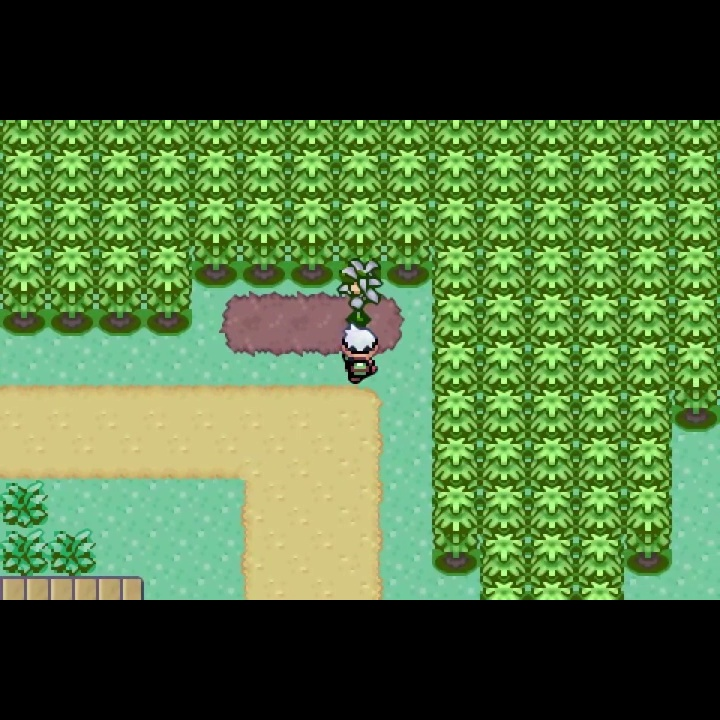grass: (47, 527, 97, 578), (1, 477, 49, 529), (1, 527, 48, 578)
npc: (338, 321, 380, 387)
wall: (288, 195, 335, 293), (671, 340, 720, 434), (241, 196, 288, 292), (96, 243, 143, 338), (384, 195, 431, 290), (144, 244, 192, 337), (193, 196, 240, 290), (625, 484, 673, 576), (432, 485, 480, 576), (1, 244, 48, 335), (49, 243, 94, 337), (336, 196, 382, 265), (430, 387, 480, 438), (574, 435, 625, 485), (528, 339, 576, 391), (47, 148, 96, 198), (480, 293, 529, 343), (526, 196, 576, 245), (432, 243, 480, 294), (481, 244, 528, 296), (528, 435, 575, 487), (431, 293, 480, 342), (527, 149, 576, 198), (671, 292, 720, 341), (240, 146, 288, 196), (289, 148, 337, 198), (478, 532, 528, 580), (576, 485, 624, 535), (575, 244, 625, 292), (623, 196, 671, 246), (48, 196, 96, 245), (97, 195, 145, 244), (192, 148, 241, 196), (432, 342, 481, 390), (528, 485, 576, 534), (624, 148, 672, 197), (528, 532, 575, 582), (673, 149, 720, 199), (144, 196, 192, 244), (336, 148, 384, 196), (432, 437, 480, 485), (432, 196, 480, 244), (528, 293, 576, 341), (577, 533, 625, 581), (577, 340, 625, 388), (576, 292, 624, 340), (672, 244, 720, 292), (672, 196, 720, 244), (1, 149, 48, 198), (384, 149, 433, 196), (481, 148, 528, 197), (528, 389, 575, 438), (576, 195, 623, 244), (481, 436, 527, 486), (625, 244, 670, 295), (577, 148, 625, 195), (625, 437, 673, 484), (1, 196, 47, 245), (481, 196, 527, 245), (625, 388, 671, 437), (625, 293, 671, 342), (482, 340, 527, 390), (529, 244, 574, 294), (626, 340, 671, 390), (145, 148, 191, 196), (481, 486, 527, 534), (98, 149, 145, 195), (434, 149, 480, 196), (578, 389, 625, 434), (482, 390, 526, 436), (49, 119, 96, 150), (673, 119, 720, 150), (290, 120, 336, 151), (386, 120, 433, 150), (529, 120, 576, 150), (480, 120, 528, 149), (338, 120, 384, 150), (241, 120, 290, 148), (433, 120, 480, 149), (579, 120, 625, 149), (1, 120, 48, 148), (625, 120, 672, 148), (193, 120, 241, 147), (98, 120, 144, 148), (147, 120, 192, 148), (478, 581, 529, 600), (528, 580, 575, 600), (577, 580, 624, 600)
